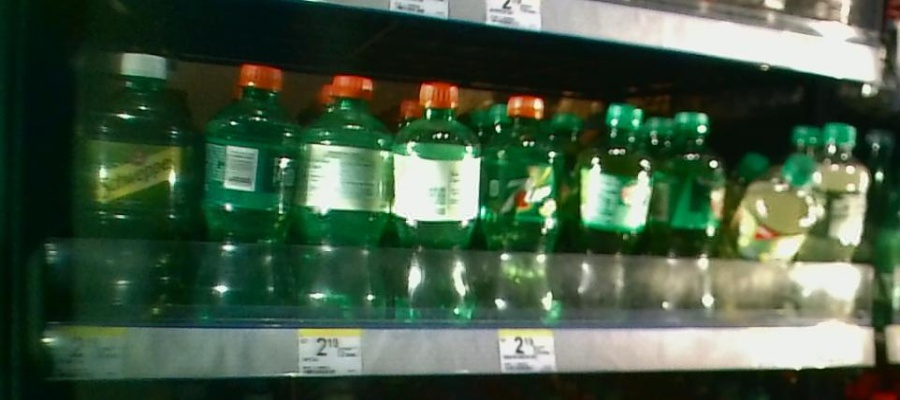bottle: (201, 46, 302, 325), (88, 44, 190, 320), (391, 63, 480, 327), (306, 65, 388, 335), (484, 86, 563, 321), (569, 98, 644, 331), (652, 103, 719, 332), (735, 152, 813, 323), (821, 120, 876, 326)
